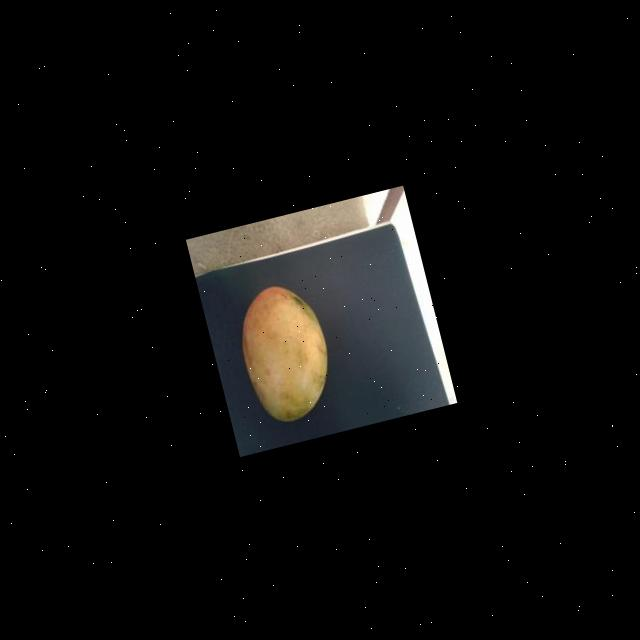Mango: (226, 275, 341, 428)
